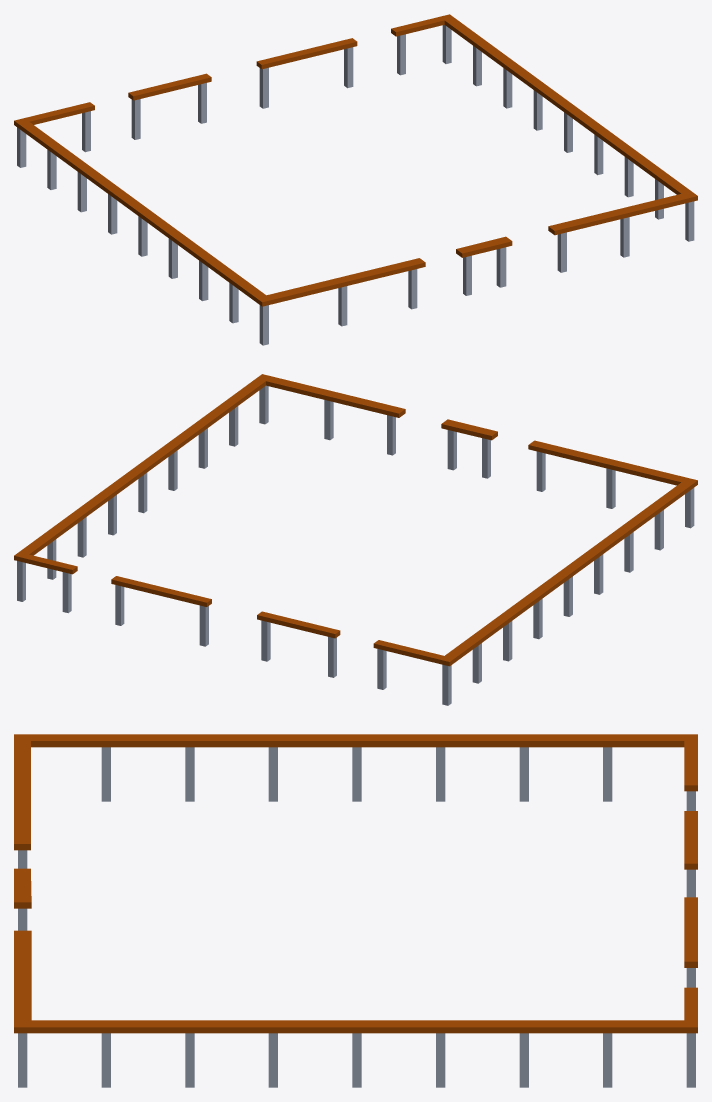
The model's file is Railing 2nd.fbx.
The picture shows the model from 3 angles, top to bottom: view 1: azimuth 30°, elevation 25°; view 2: azimuth 150°, elevation 25°; view 3: azimuth 270°, elevation 25°; orthographic projection. The views are drawn at different scales.
Parts seen in each view (by area): view 1: Railings.031; view 2: Railings.031; view 3: Railings.031.
Boxes of the visible parts, <box> form: Railings.031: <box>14,14,697,345</box>; Railings.031: <box>14,374,697,705</box>; Railings.031: <box>14,734,697,1087</box>.
Size of the model in its own units: 2027 by 200 by 2000.
